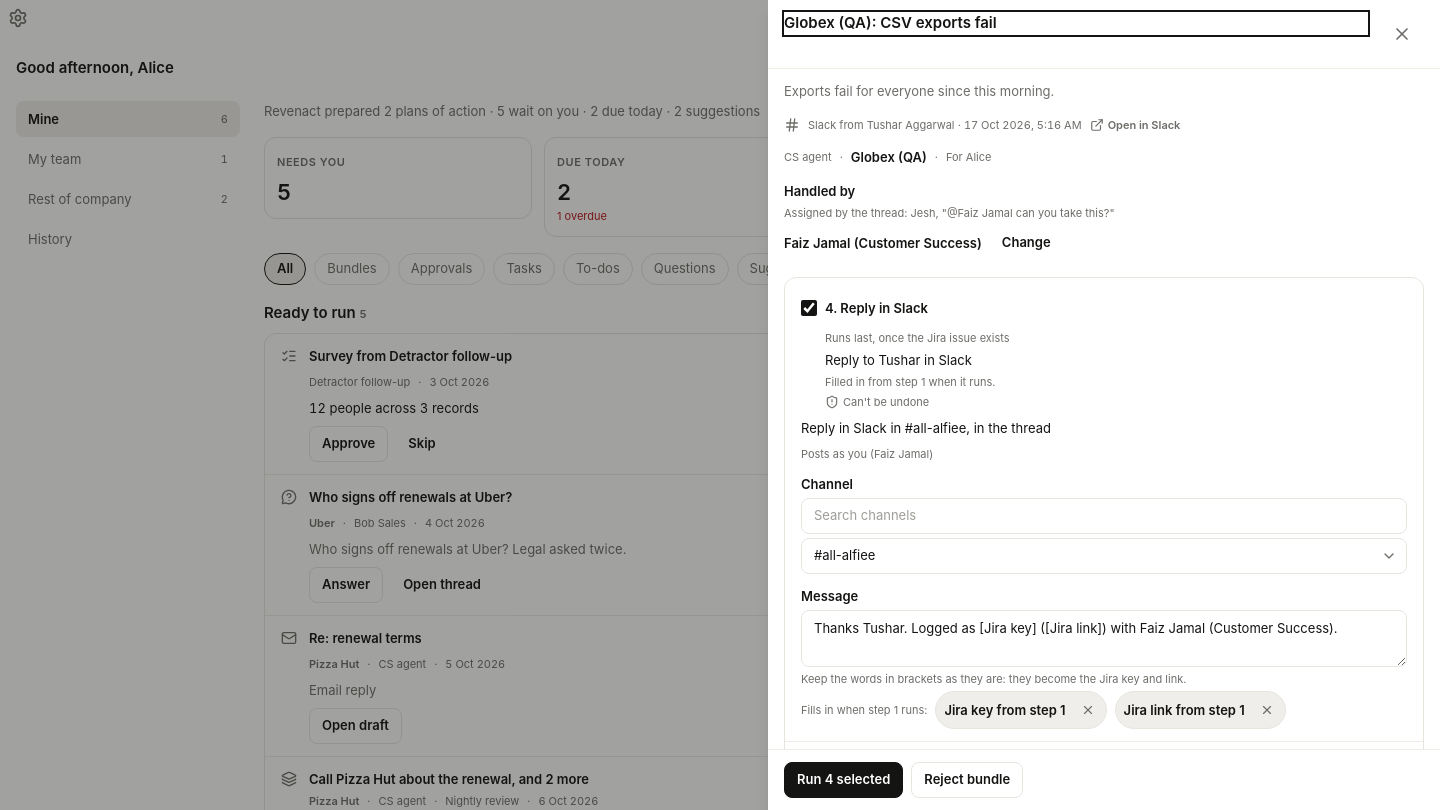
Test: An escalation bundle (Slack escalations D4, frontend Decisions 1 and 4) › shows a skipped step note where "Not run" would be
Click the button "Run 4 selected".
click(844, 780)  # box [784, 762, 903, 798]
(page scrolled)
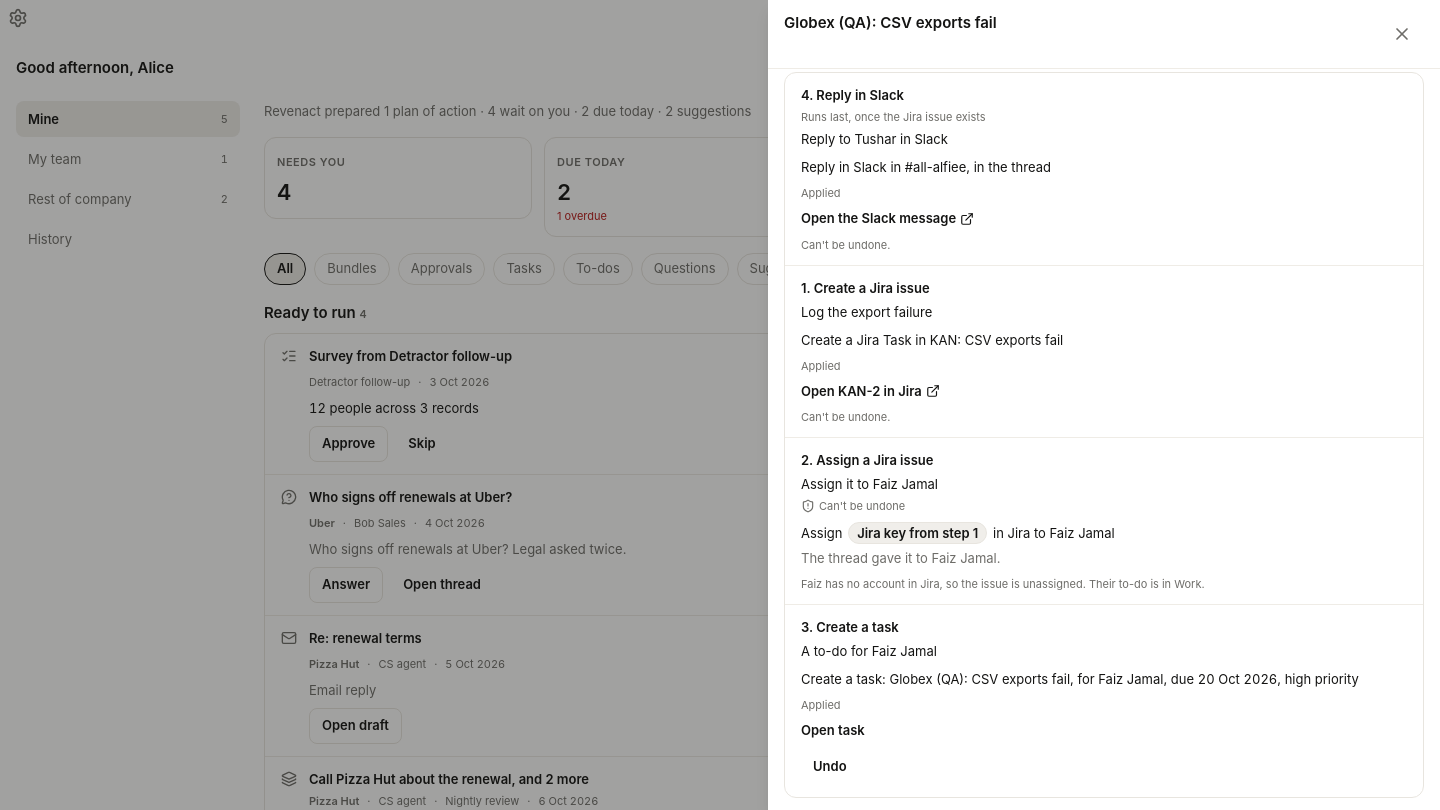
Expected: the text "Faiz has no account in Jira, so the issue is unassigned. Their to-do is in Work." is shown, [801, 577, 1205, 591]
